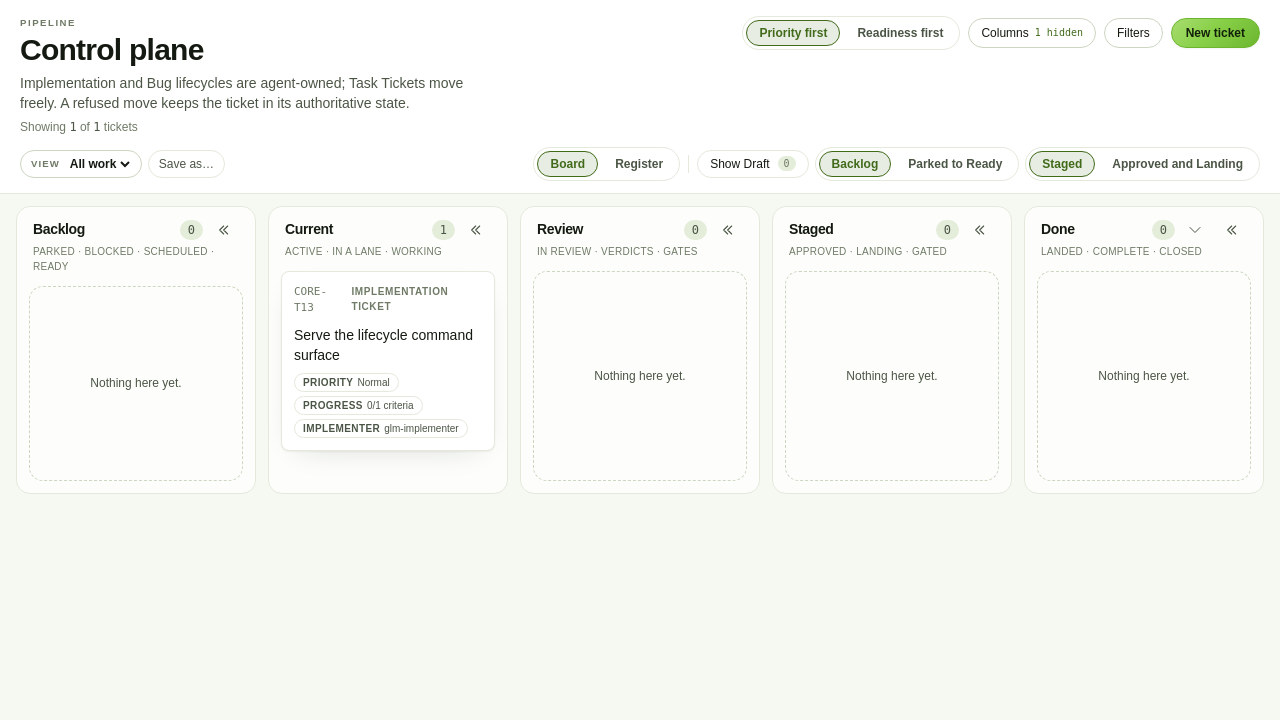
Scenario: ticket drawer › loads full ticket detail through ticket.get when it opens
Click the button "Serve the lifecycle command surface": point(388, 345) top-left (294, 325), bottom-right (482, 365)
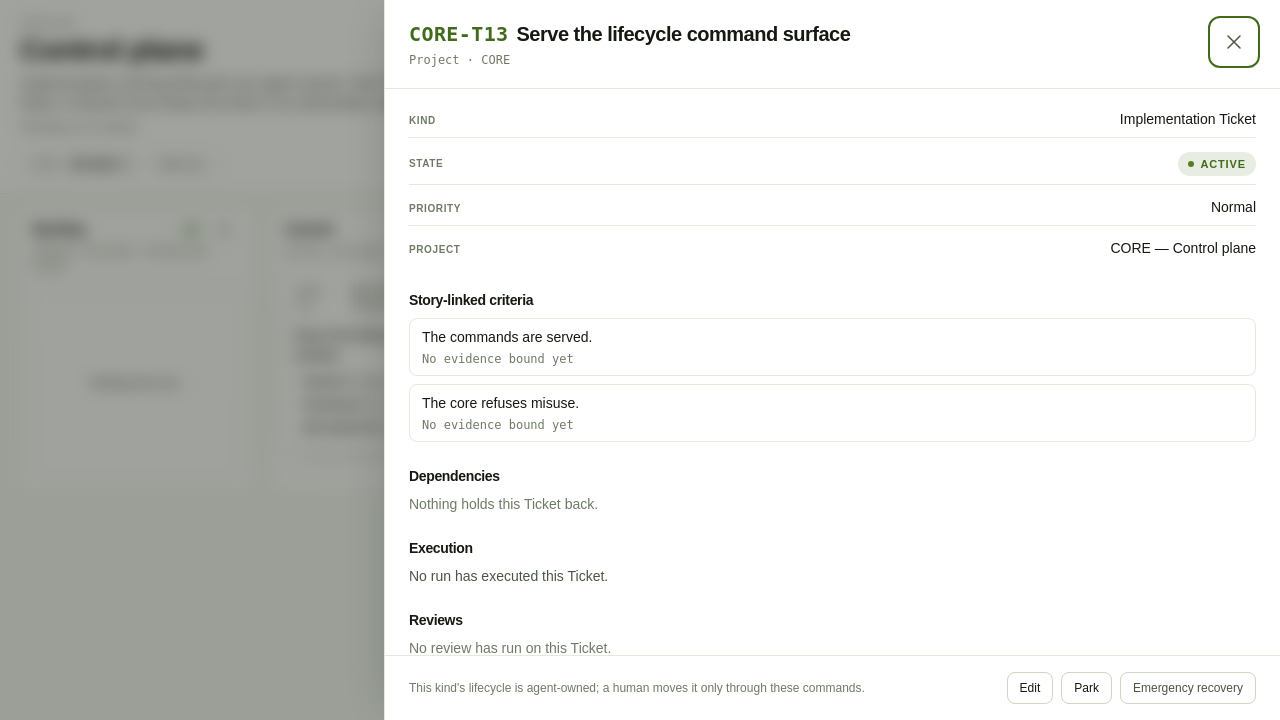
Expected: the element with test id "drawer-criteria" shows "The commands are served.", top-left (422, 329), bottom-right (592, 345)
Expected: the element with test id "drawer-criteria" shows "The core refuses misuse.", top-left (422, 395), bottom-right (579, 411)
